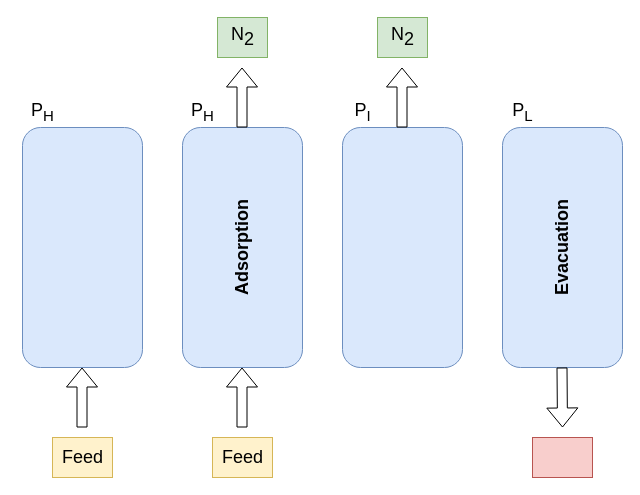
This 640x495 diagram has some shape labels left out. The box of each missing label's shape, as (x1, y1, x2, y2) in pixels:
B lowdown: (342, 126, 462, 368)
CO 2: (532, 436, 592, 478)
Feed Pressurisation: (22, 126, 142, 368)
